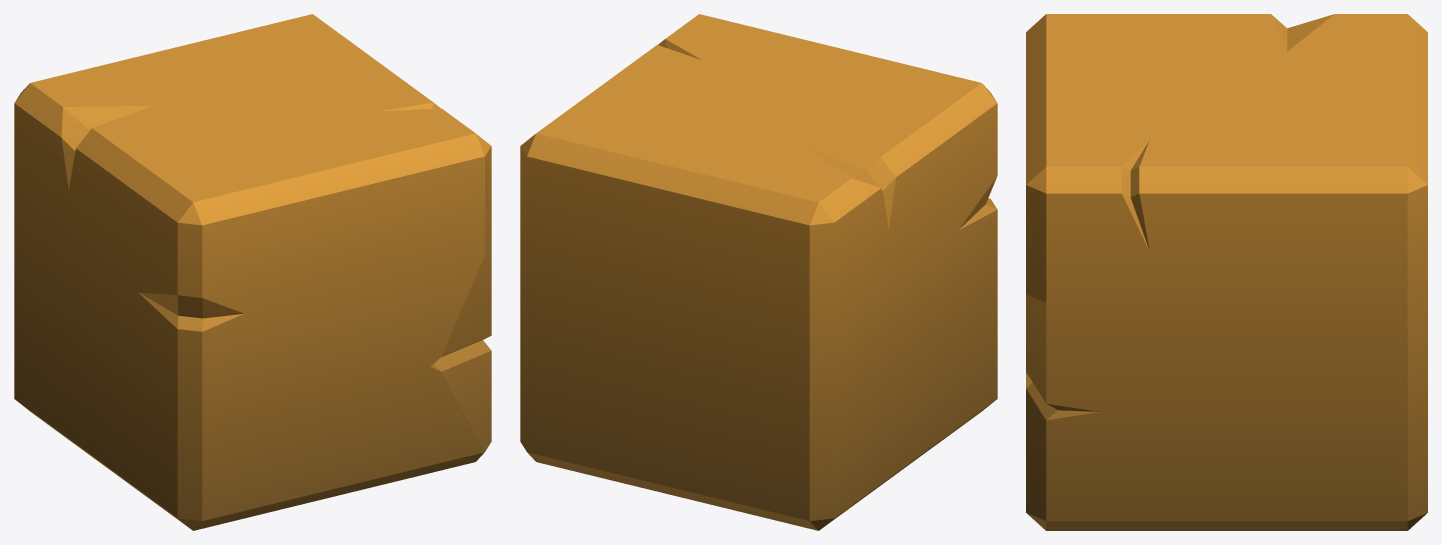
File: Tile_EmasCoak.fbx
3 views of the same model, side by side, from view 1: azimuth 30°, elevation 25°; view 2: azimuth 150°, elevation 25°; view 3: azimuth 270°, elevation 25° (orthographic). The views are drawn at different scales.
Parts seen in each view (by area): view 1: Tile Orange Coak; view 2: Tile Orange Coak; view 3: Tile Orange Coak.
Part boxes in pixels (bbox=[...]): Tile Orange Coak: bbox=[14, 14, 491, 530]; Tile Orange Coak: bbox=[520, 14, 997, 530]; Tile Orange Coak: bbox=[1026, 14, 1427, 530].
Bounding box in the file's own units: 1 × 1 × 1.
Materials: 1 (1 with a texture image).
